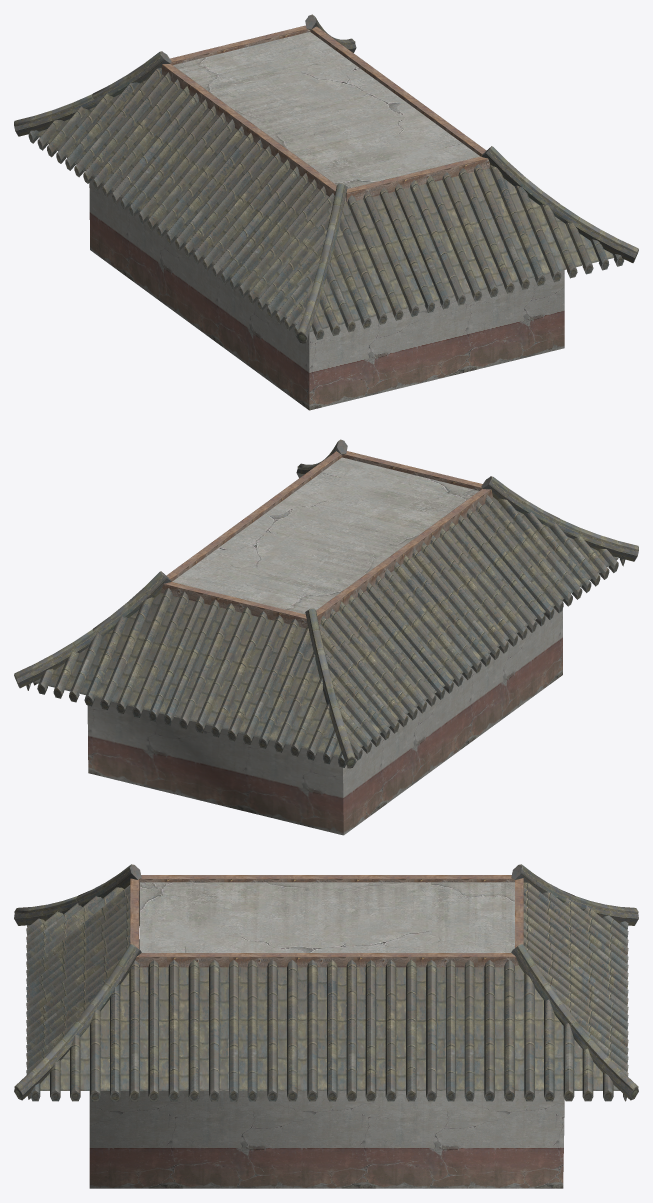
File: bg_anh_delphiinn_bh03_sm_cwk.FBX
3 views of the same model, one above another, from view 1: azimuth 30°, elevation 25°; view 2: azimuth 150°, elevation 25°; view 3: azimuth 270°, elevation 25° (orthographic). The views are drawn at different scales.
Visible parts, largest first — view 1: bg_anh_delphiinn_bh03_sm_cwk; view 2: bg_anh_delphiinn_bh03_sm_cwk; view 3: bg_anh_delphiinn_bh03_sm_cwk.
Boxes of the visible parts, x1,y1,x2,y2 form: bg_anh_delphiinn_bh03_sm_cwk: (14,14,638,410); bg_anh_delphiinn_bh03_sm_cwk: (14,439,638,835); bg_anh_delphiinn_bh03_sm_cwk: (14,864,638,1188).
Size of the model in its own units: 549 by 308 by 806.
